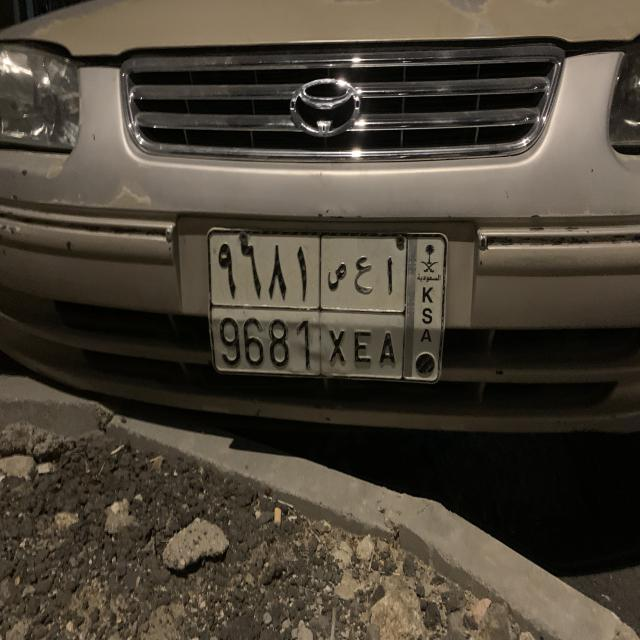license_plate: (201, 223, 453, 393)
